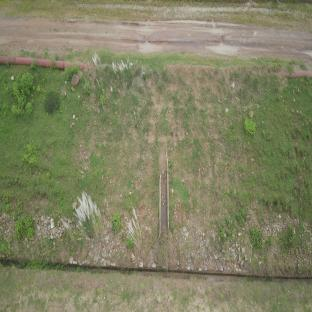rock_toe: (181, 222, 309, 274), (2, 207, 116, 252)
slope_drain: (157, 140, 171, 263)
toe_drain: (0, 258, 312, 282)
